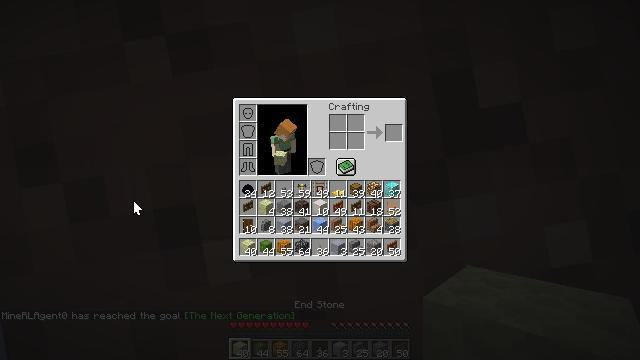cursor: (133, 200, 143, 216)
